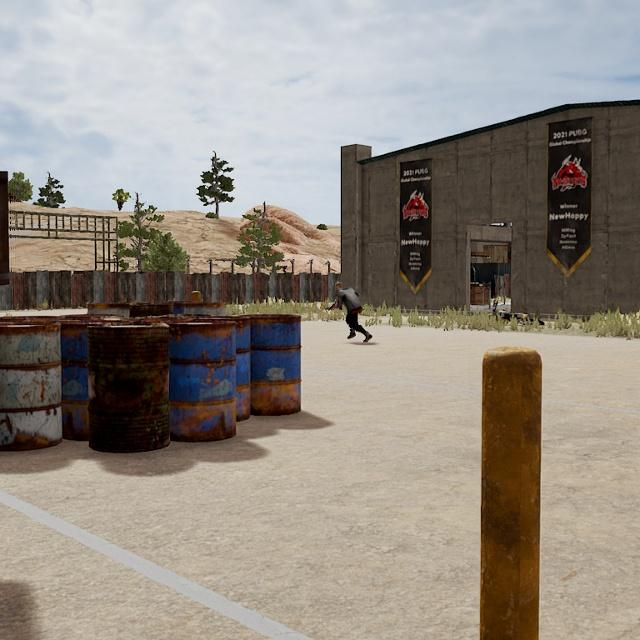head: (332, 281, 345, 293)
people: (329, 278, 375, 345)
